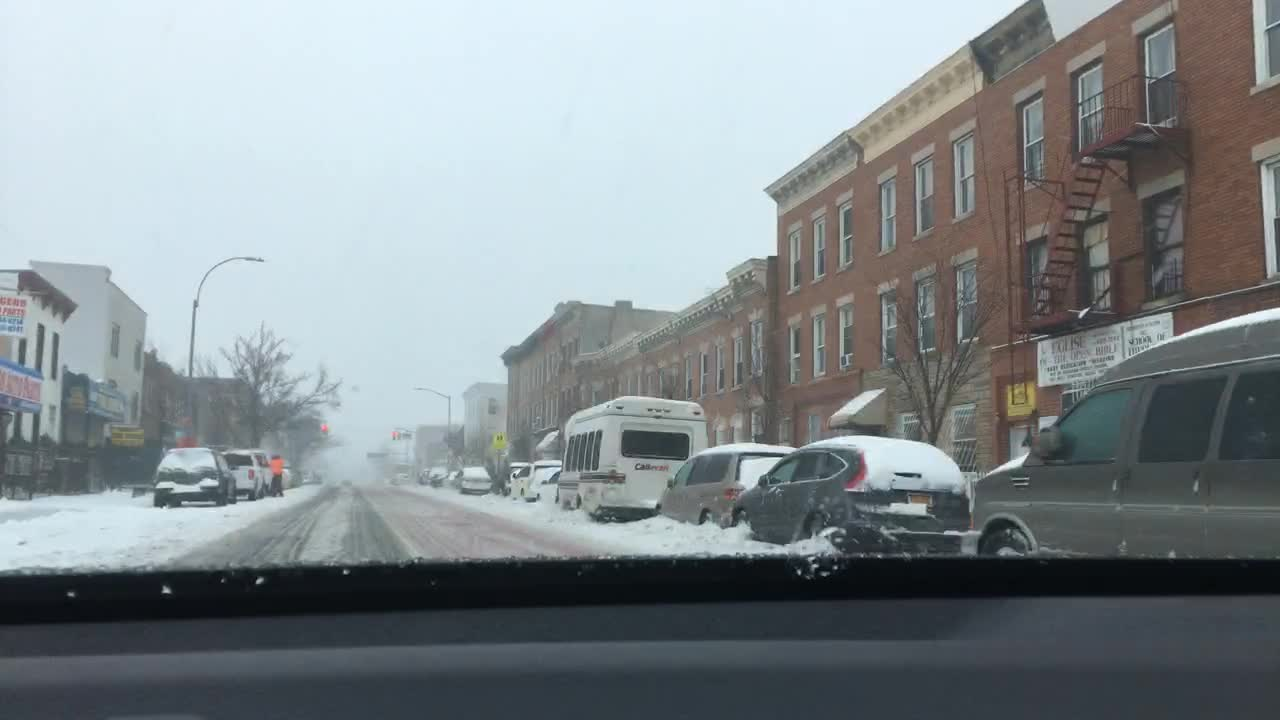car: (970, 309, 1280, 560), (737, 441, 973, 572), (656, 448, 794, 539), (153, 444, 237, 508)
person: (261, 451, 292, 502)
traffic light: (389, 426, 407, 444)
truck: (565, 395, 708, 525)
